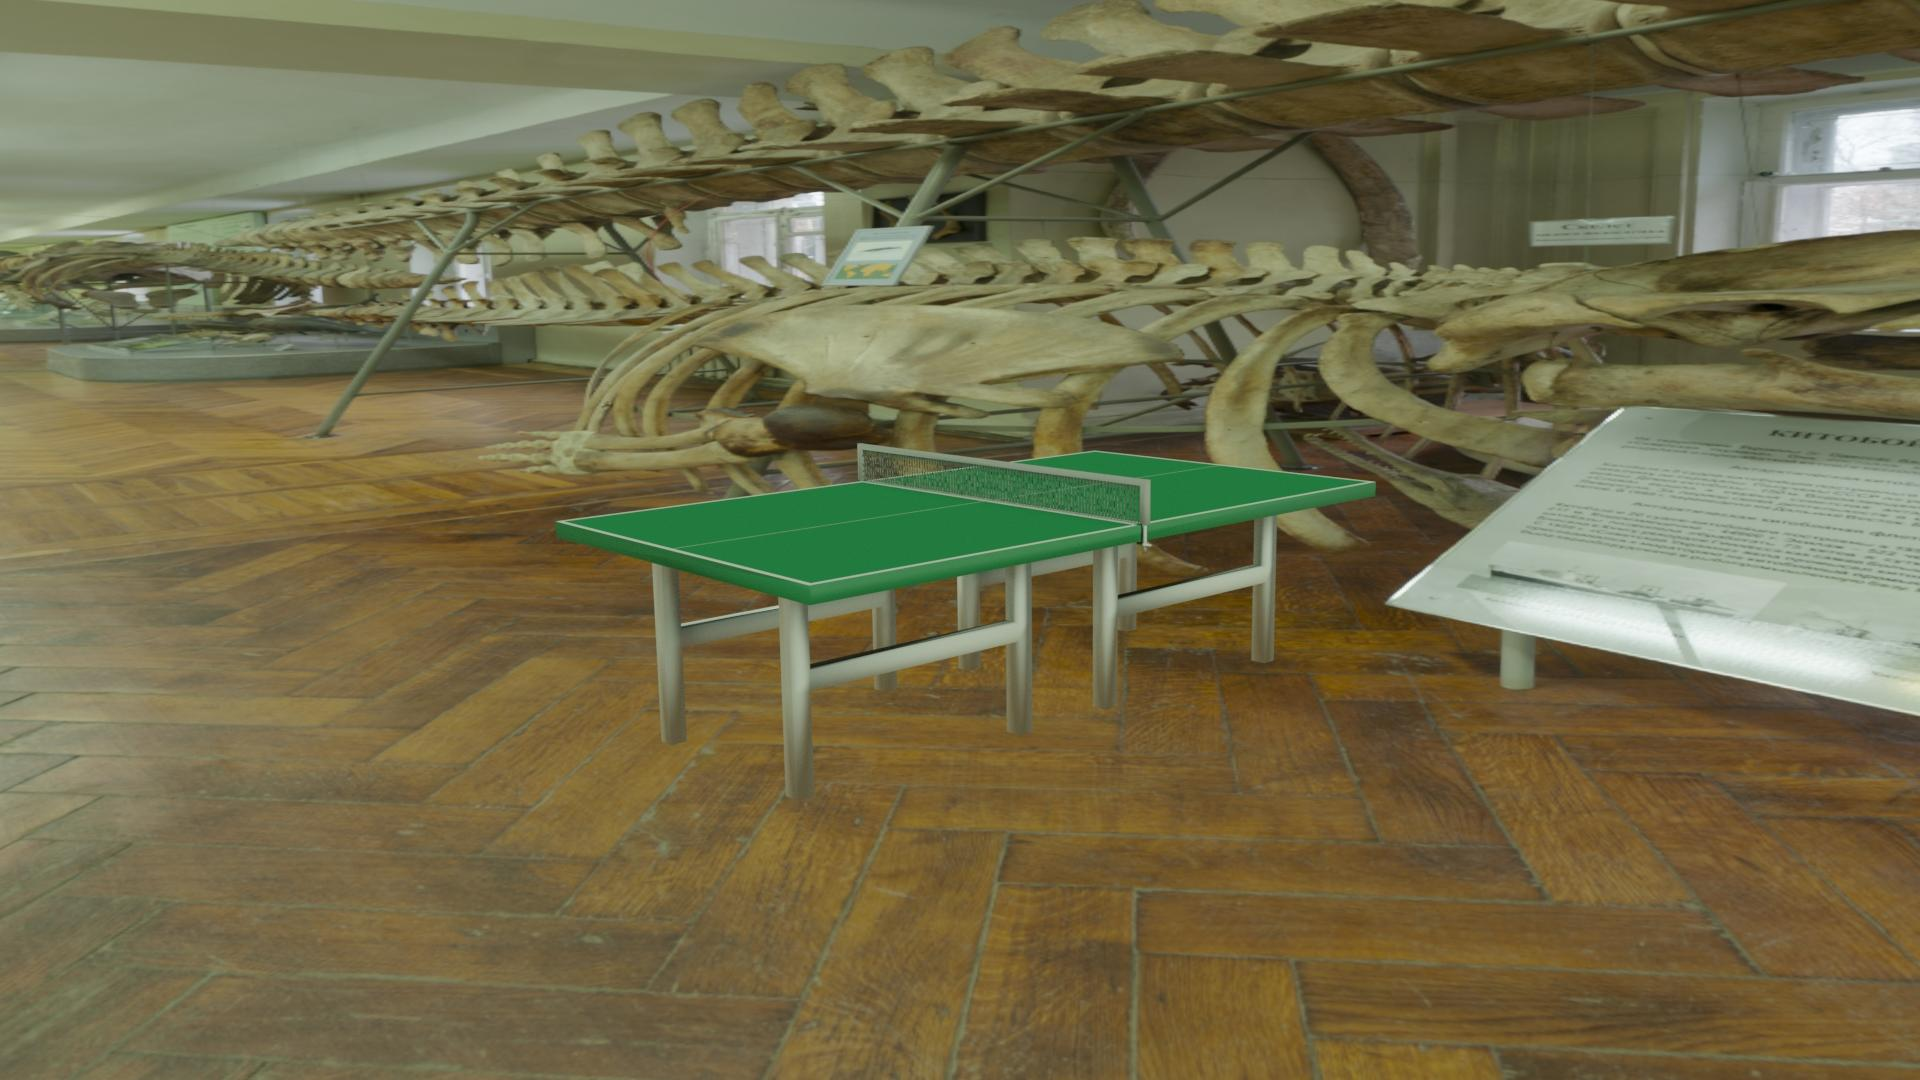table: (563, 451, 1369, 583)
